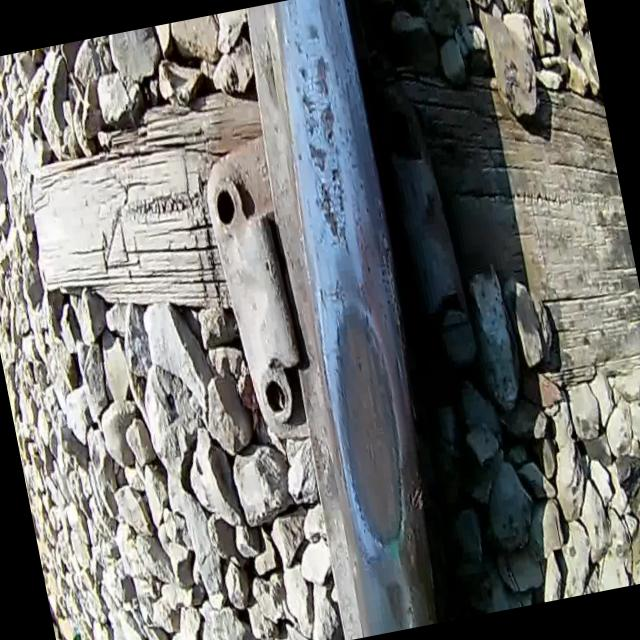Cracks: (316, 172, 338, 235)
Spallings: (399, 468, 436, 528)
Squats: (306, 286, 428, 560), (277, 7, 368, 268), (374, 560, 416, 632)
